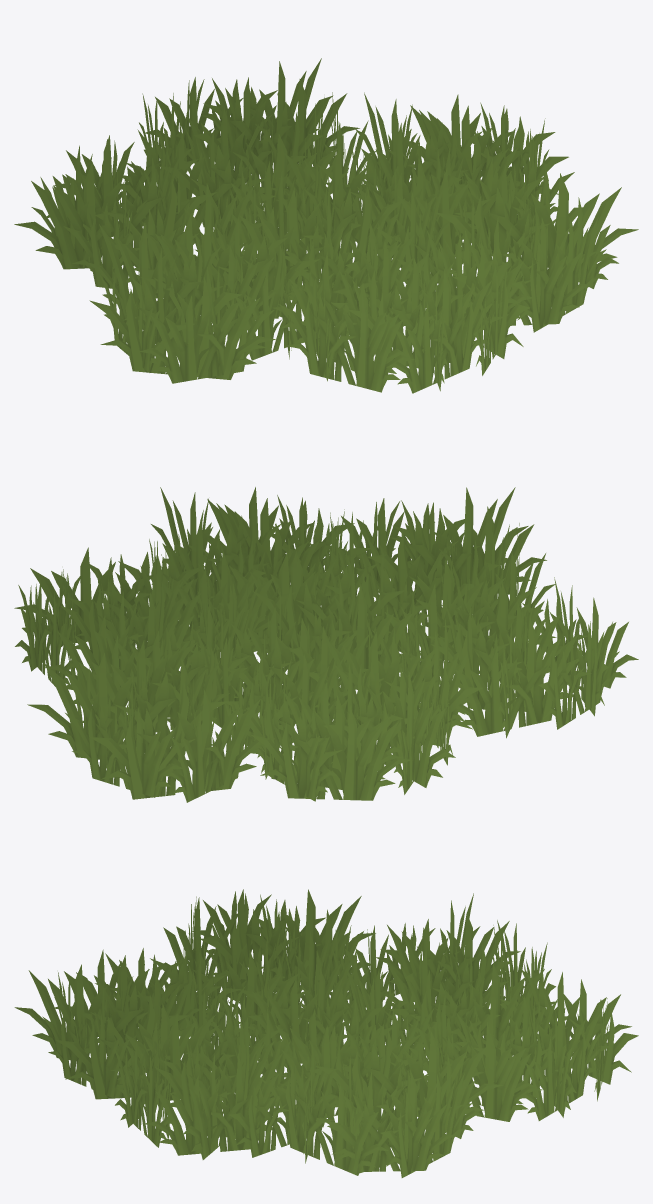
The model's file is SM_Env_Grass_Tall_Clump_04.fbx.
3 renders of one model, top to bottom at view 1: azimuth 30°, elevation 25°; view 2: azimuth 150°, elevation 25°; view 3: azimuth 270°, elevation 25°, orthographic. The views are drawn at different scales.
Parts seen in each view (by area): view 1: SM_Env_Grass_Tall_Clump_04_LOD0; view 2: SM_Env_Grass_Tall_Clump_04_LOD0; view 3: SM_Env_Grass_Tall_Clump_04_LOD0.
Part boxes in pixels (x1=…): SM_Env_Grass_Tall_Clump_04_LOD0: x1=14, y1=58, x2=638, y2=393; SM_Env_Grass_Tall_Clump_04_LOD0: x1=14, y1=487, x2=638, y2=802; SM_Env_Grass_Tall_Clump_04_LOD0: x1=14, y1=889, x2=638, y2=1177.
Size of what is drawn, in the model's own units: 413 by 99.37 by 462.
